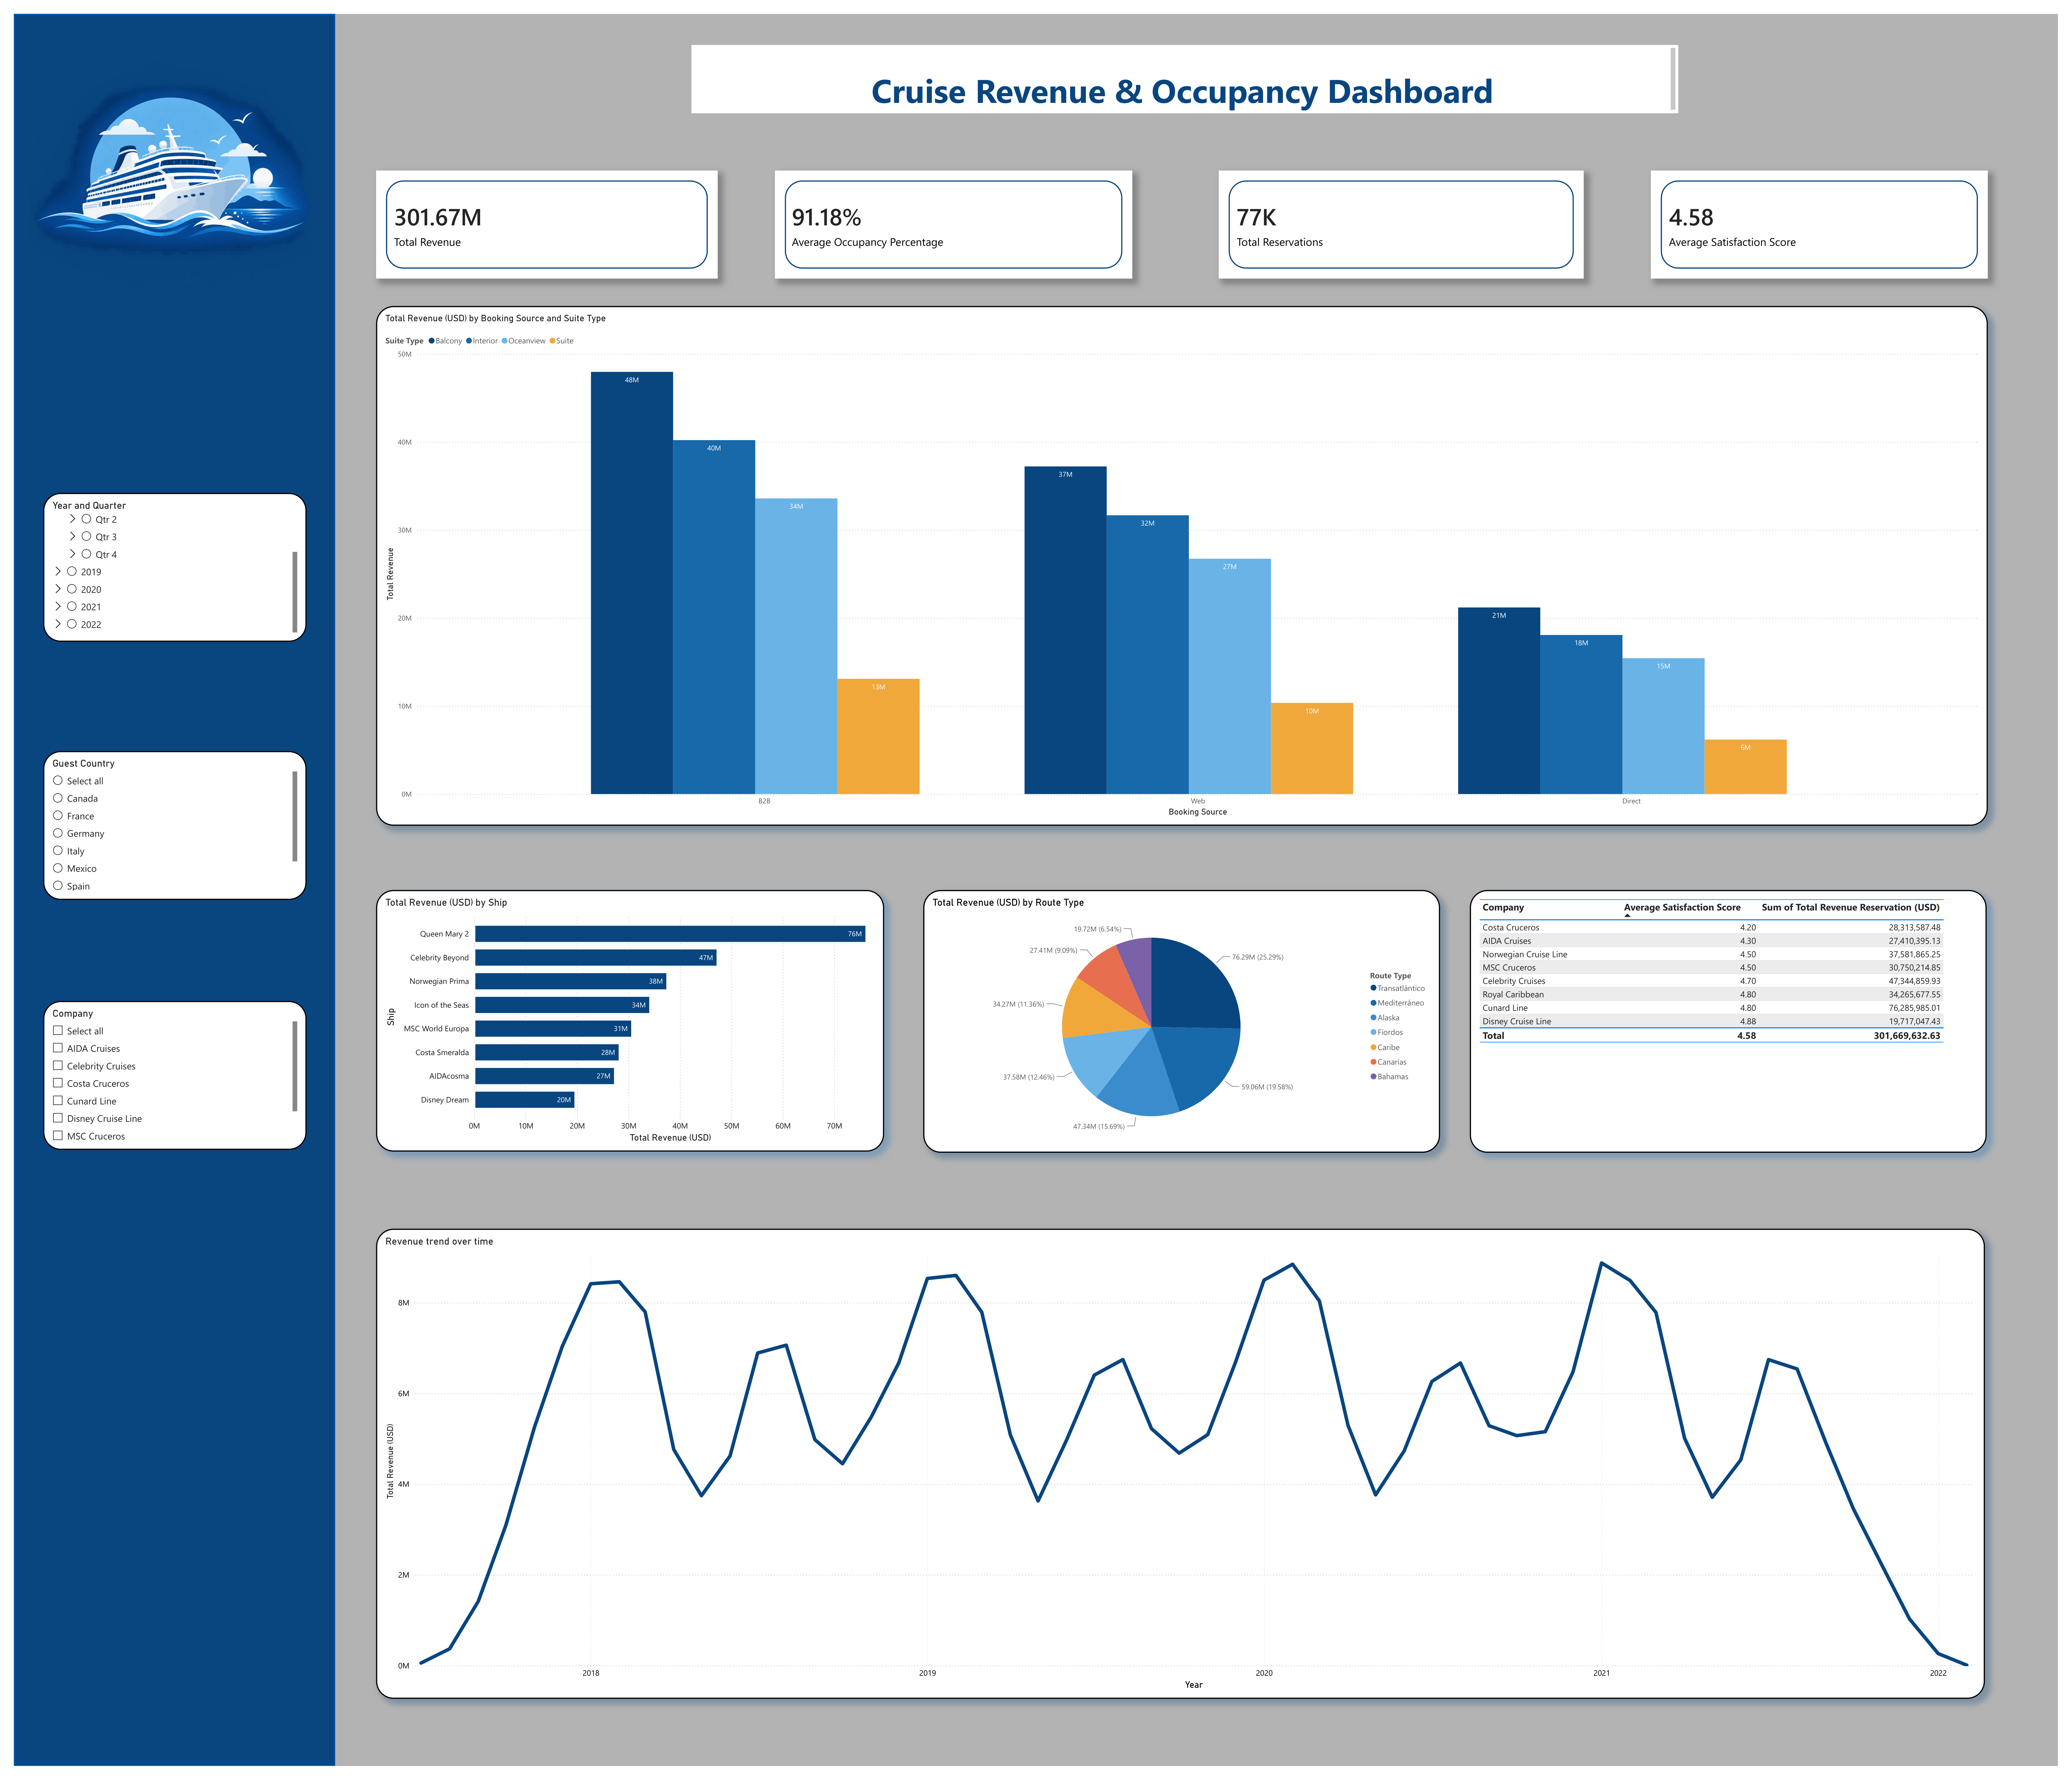

Layout of this report page (visuals, bound fields, positions):
{"tool":"powerbi","page":{"name":"Page 1","canvas":[3500,3000],"ordinal":0},"visuals":[{"type":"shape","box":[0,0,550,3000],"z":0},{"type":"cardVisual","fields":{"Data":["reporte_cruceros_revenue_management.Total Revenue"]},"box":[620,267.5,585,185],"z":1000},{"type":"cardVisual","fields":{"Data":["reporte_cruceros_revenue_management.Average Satisfaction"]},"box":[2802.5,267.5,577.5,185],"z":2000},{"type":"cardVisual","fields":{"Data":["reporte_cruceros_revenue_management.Average Occupancy Percentage"]},"box":[1302.5,267.5,612.5,185],"z":3000},{"type":"cardVisual","fields":{"Data":["reporte_cruceros_revenue_management.Total Reservations"]},"box":[2062.5,267.5,625,185],"z":4000},{"type":"clusteredBarChart","title":"Total Revenue (USD) by Ship","fields":{"Category":["reporte_cruceros_revenue_management.Ship"],"Y":["Sum(reporte_cruceros_revenue_management.Total Revenue Reservation (USD))"]},"box":[620,1500,870,447.5],"z":5000},{"type":"tableEx","fields":{"Values":["reporte_cruceros_revenue_management.Company","reporte_cruceros_revenue_management.Average Satisfaction Score","Sum(reporte_cruceros_revenue_management.Total Revenue Reservation (USD))"]},"box":[2493.3,1500,885,450],"z":6000},{"type":"lineChart","title":"Revenue trend over time","fields":{"Y":["Sum(reporte_cruceros_revenue_management.Total Revenue Reservation (USD))"],"Category":["reporte_cruceros_revenue_management.Reservation Date.Variation.Date Hierarchy.Year","reporte_cruceros_revenue_management.Reservation Date.Variation.Date Hierarchy.Month"]},"box":[620,2080,2755,805],"z":7000},{"type":"pieChart","title":"Total Revenue (USD) by Route Type","fields":{"Y":["Sum(reporte_cruceros_revenue_management.Total Revenue Reservation (USD))"],"Category":["reporte_cruceros_revenue_management.Route Type"]},"box":[1556.7,1500,885,450],"z":8000},{"type":"clusteredColumnChart","title":"Total Revenue (USD) by Booking Source and Suite Type","fields":{"Category":["reporte_cruceros_revenue_management.Booking Source"],"Y":["Sum(reporte_cruceros_revenue_management.Total Revenue Reservation (USD))"],"Series":["reporte_cruceros_revenue_management.Suite Type"]},"box":[620,500,2760,890],"z":9000},{"type":"listSlicer","fields":{"Values":["reporte_cruceros_revenue_management.Travel Date.Variation.Date Hierarchy.Year","reporte_cruceros_revenue_management.Travel Date.Variation.Date Hierarchy.Quarter","reporte_cruceros_revenue_management.Travel Date.Variation.Date Hierarchy.Month","reporte_cruceros_revenue_management.Travel Date.Variation.Date Hierarchy.Day"]},"box":[50,820,451.2,255],"z":10000},{"type":"listSlicer","fields":{"Values":["reporte_cruceros_revenue_management.Guest Country"]},"box":[50,1262,451.2,255],"z":11000},{"type":"listSlicer","fields":{"Values":["reporte_cruceros_revenue_management.Company"]},"box":[50,1690,451.2,255],"z":11001},{"type":"textbox","box":[1160,53.3,1690,116.7],"z":11002},{"type":"image","box":[0,76.7,536,500],"z":11003}]}

Visuals, with their boxes in screenshot pixels (x1, y1, x2, y2), scaled from the page's 3500x3000 canvas onto the 2072x1780 screenshot:
shape: <bbox>0, 0, 326, 1780</bbox>
cardVisual - reporte_cruceros_revenue_management.Total Revenue: <bbox>367, 159, 713, 269</bbox>
cardVisual - reporte_cruceros_revenue_management.Average Satisfaction: <bbox>1659, 159, 2001, 269</bbox>
cardVisual - reporte_cruceros_revenue_management.Average Occupancy Percentage: <bbox>771, 159, 1134, 269</bbox>
cardVisual - reporte_cruceros_revenue_management.Total Reservations: <bbox>1221, 159, 1591, 269</bbox>
"Total Revenue (USD) by Ship" clusteredBarChart: <bbox>367, 890, 882, 1155</bbox>
tableEx - reporte_cruceros_revenue_management.Company x reporte_cruceros_revenue_management.Average Satisfaction Score: <bbox>1476, 890, 2000, 1157</bbox>
"Revenue trend over time" lineChart: <bbox>367, 1234, 1998, 1712</bbox>
"Total Revenue (USD) by Route Type" pieChart: <bbox>922, 890, 1446, 1157</bbox>
"Total Revenue (USD) by Booking Source and Suite Type" clusteredColumnChart: <bbox>367, 297, 2001, 825</bbox>
listSlicer - reporte_cruceros_revenue_management.Travel Date.Variation.Date Hierarchy.Year x reporte_cruceros_revenue_management.Travel Date.Variation.Date Hierarchy.Quarter: <bbox>30, 487, 297, 638</bbox>
listSlicer - reporte_cruceros_revenue_management.Guest Country: <bbox>30, 749, 297, 900</bbox>
listSlicer - reporte_cruceros_revenue_management.Company: <bbox>30, 1003, 297, 1154</bbox>
textbox: <bbox>687, 32, 1687, 101</bbox>
image: <bbox>0, 45, 317, 342</bbox>
